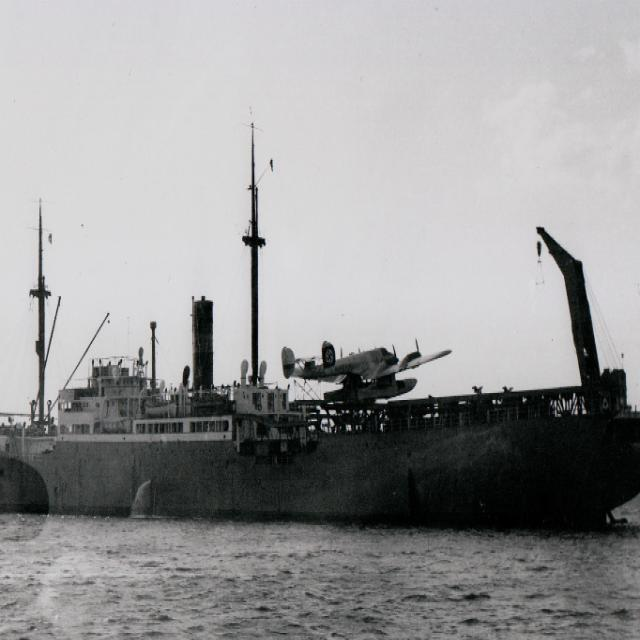Portanaves: (1, 115, 640, 543)
